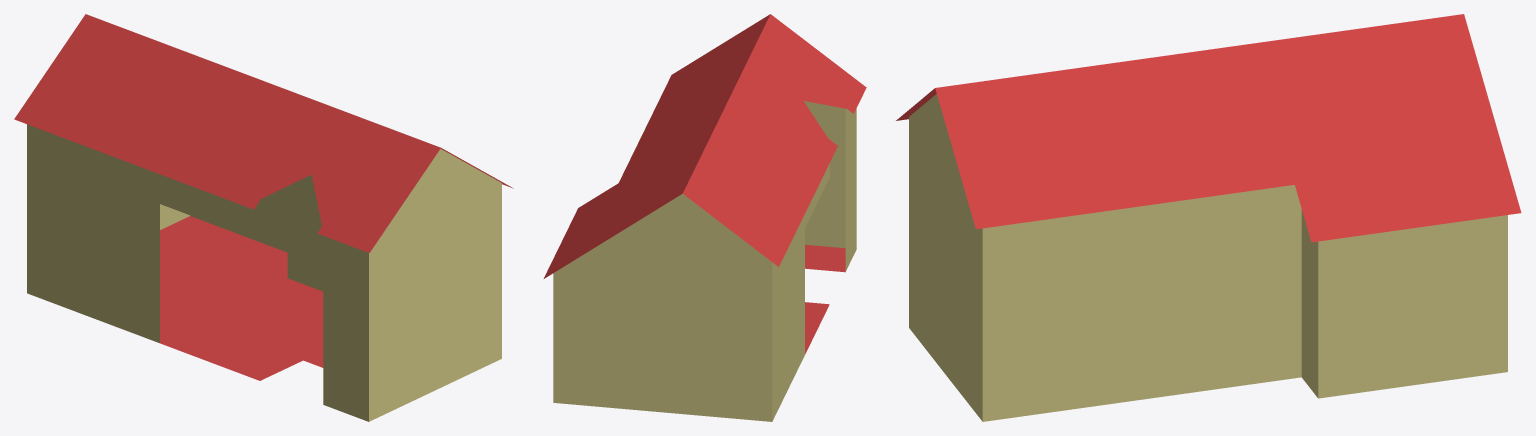
3 views of the same model, side by side, from view 1: azimuth 30°, elevation 25°; view 2: azimuth 150°, elevation 25°; view 3: azimuth 270°, elevation 25° (orthographic). The views are drawn at different scales.
Size of the model in its own units: 19.32 by 28.94 by 14.67.
